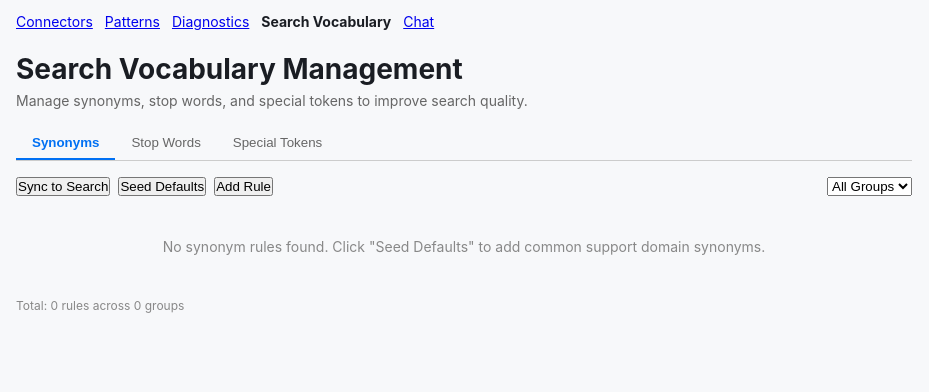
Test case: SynonymManagementPage › displays special tokens in table
Click the button "Special Tokens" at (278, 144), box [217,127,338,160]
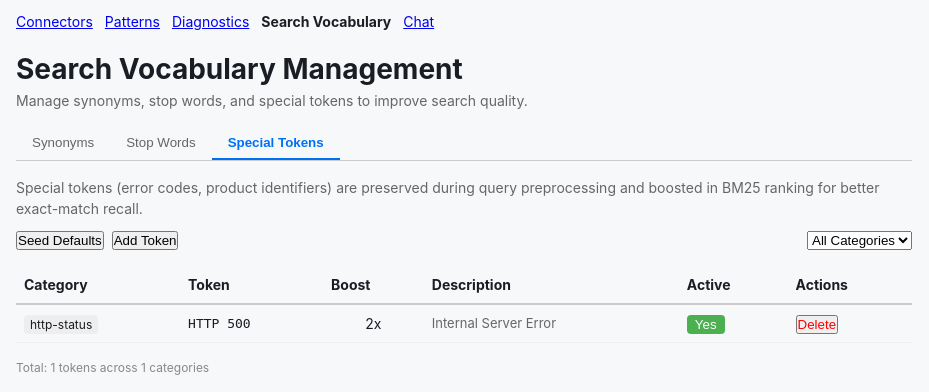
Result: the text "HTTP 500" is shown at [180,304,323,342]
Result: the text "Internal Server Error" is shown at [424,304,679,342]
Result: the text "2x" is shown at [323,304,424,342]
